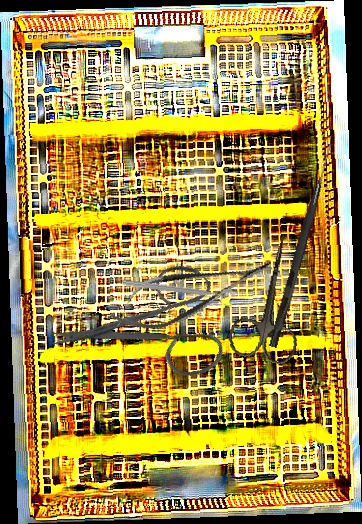Fixation Ring: (121, 276, 236, 309)
Hook Surgical: (268, 142, 335, 349)
Iris Scissors: (42, 225, 256, 438), (224, 228, 319, 367)
Micro Scissor: (104, 242, 281, 343)
